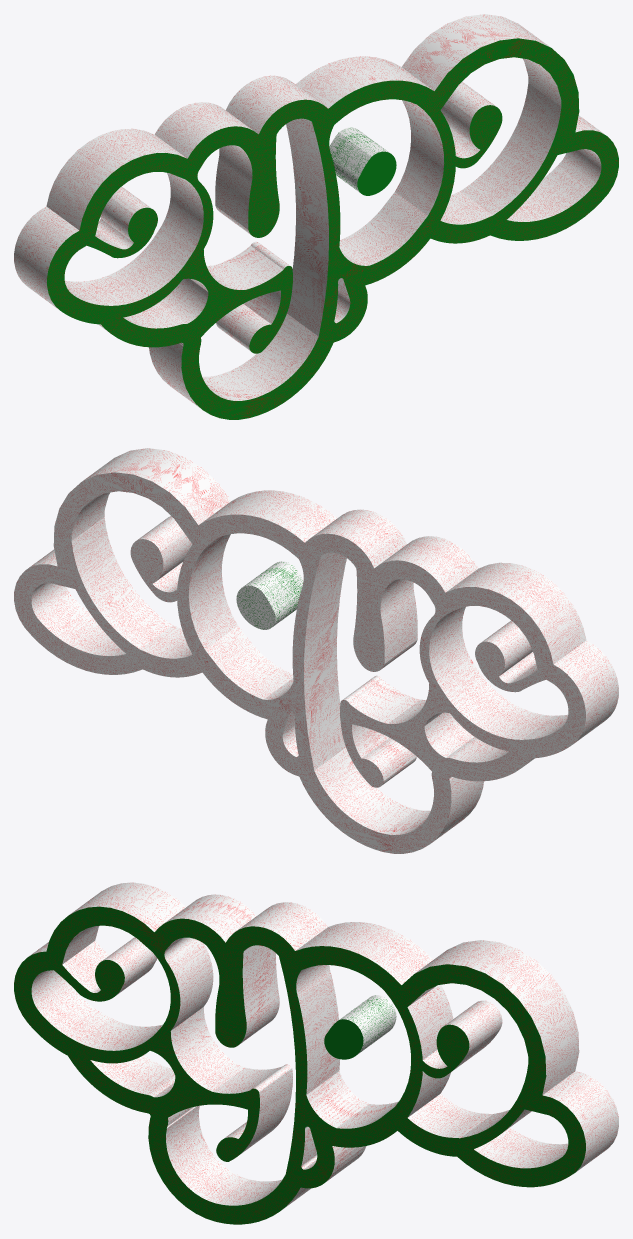
Rendered from EYOE-3D.dae.
3 views of the same model, one above another, from view 1: azimuth 30°, elevation 25°; view 2: azimuth 150°, elevation 25°; view 3: azimuth 330°, elevation 25° (orthographic).
Visible parts, largest first — view 1: group_0 (×10); view 2: group_0 (×8); view 3: group_0 (×10).
Boxes of the visible parts, bbox=[...] form: group_0 (×10): bbox=[14, 14, 618, 419]; group_0 (×8): bbox=[14, 448, 618, 853]; group_0 (×10): bbox=[14, 882, 618, 1224].
Size of the model in its own units: 39.37 by 3.94 by 20.82.
4 materials, 2 textured.
